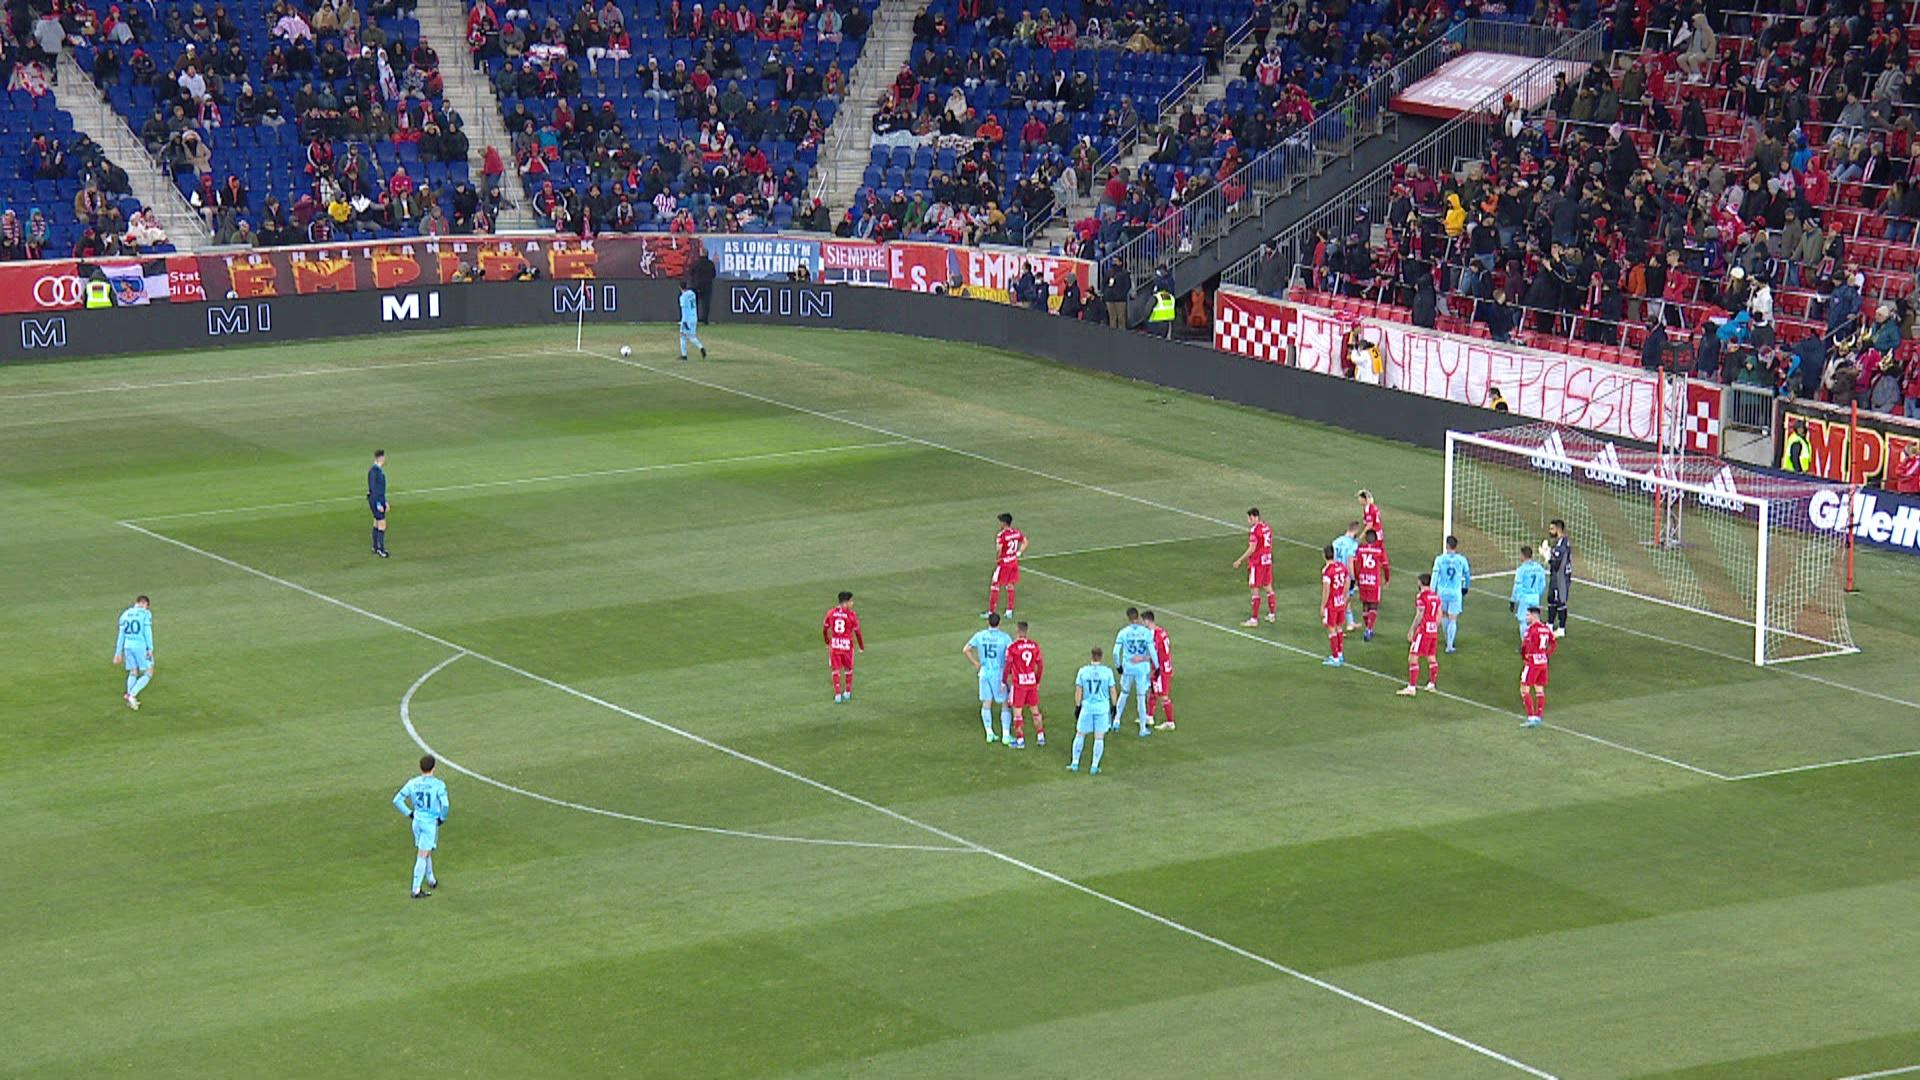football: (620, 344, 633, 357)
